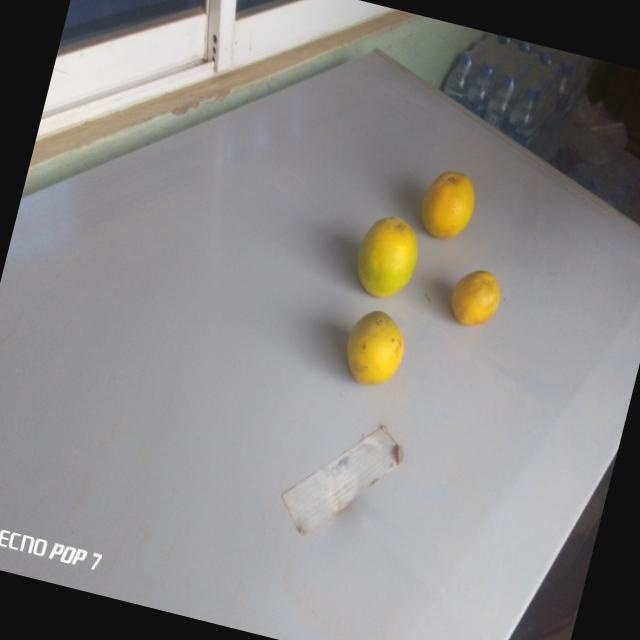agrume: (331, 289, 425, 415), (345, 201, 429, 308), (405, 162, 483, 247), (439, 259, 507, 344)
